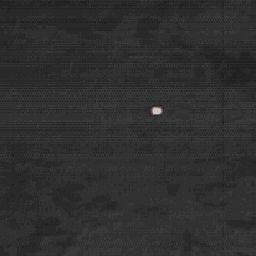Target: (151, 106, 162, 115)
